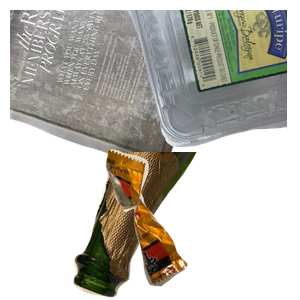glass: (71, 152, 260, 300)
paper: (10, 10, 222, 176)
plastic: (60, 10, 300, 149)
trash: (103, 147, 300, 300)
